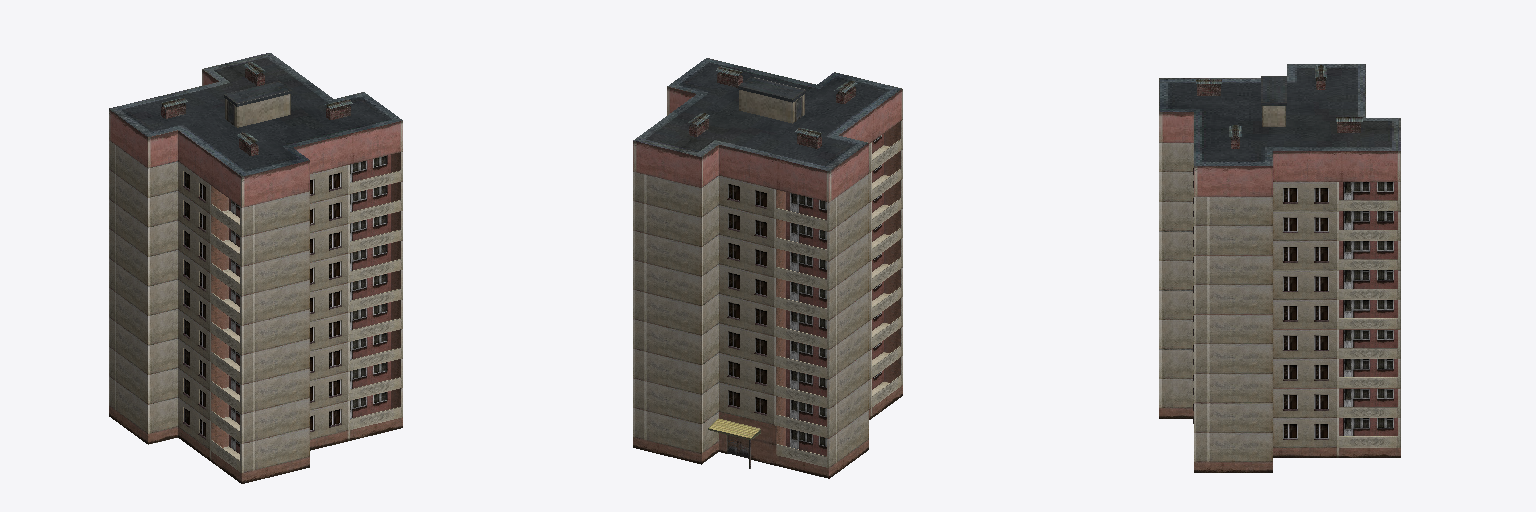
3 renders of one model, left to right at view 1: azimuth 30°, elevation 25°; view 2: azimuth 150°, elevation 25°; view 3: azimuth 270°, elevation 25°, orthographic.
Visible parts, largest first — view 1: building1; view 2: building1; view 3: building1.
Part boxes in pixels (left/top/right/bottom): building1: left=109, top=53, right=402, bottom=483; building1: left=633, top=58, right=902, bottom=478; building1: left=1159, top=64, right=1400, bottom=472.
Size of the model in its own units: 39.82 by 60.47 by 39.82.
1 materials, 1 textured.